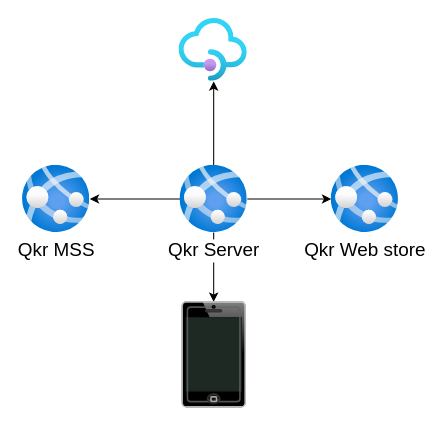
Image size: 444x446. Some labels were removed from this diagram. The centre of each missing label's shape, as x and y in pixels:
"Partner APIs" belongs at point 212,49.
"Qkr App" belongs at point 213,354.
